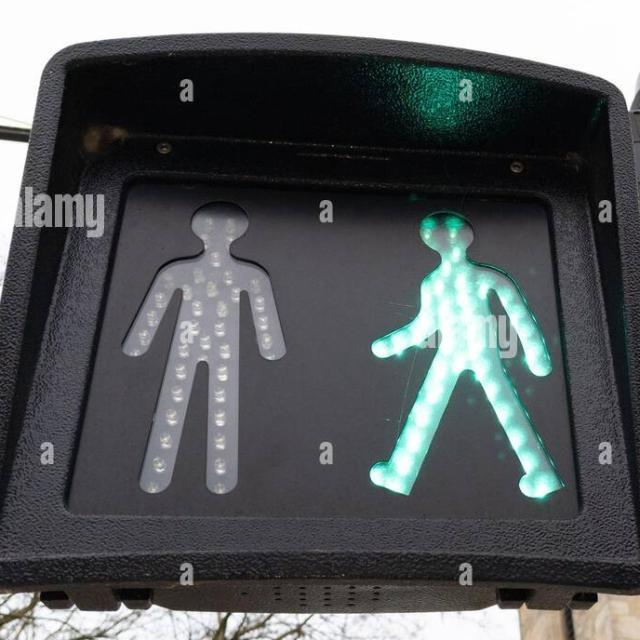geen-crossing: (376, 187, 564, 512)
